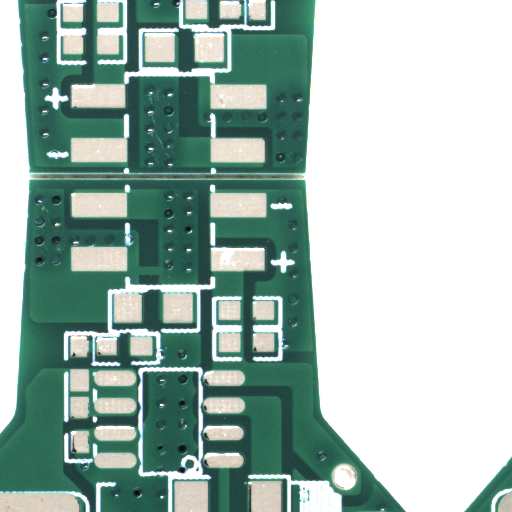Short: (149, 269, 174, 285)
